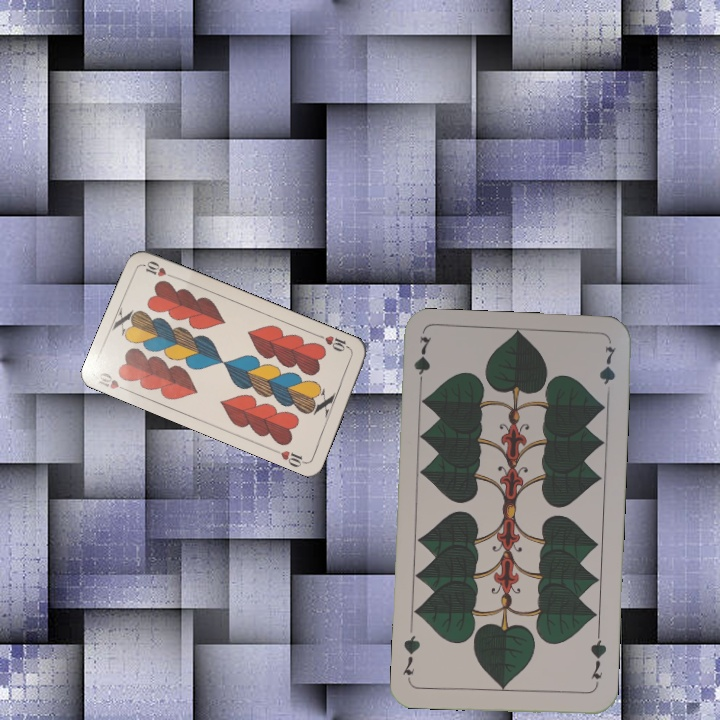G7: (410, 333, 434, 392), (586, 630, 609, 689)
H10: (94, 368, 132, 395), (315, 331, 354, 354)
